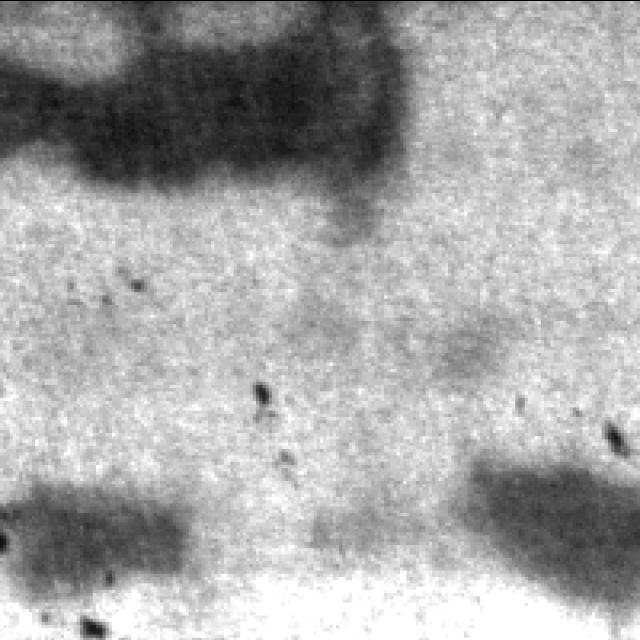patches: (0, 0, 403, 224), (0, 461, 184, 624), (477, 453, 640, 623)
